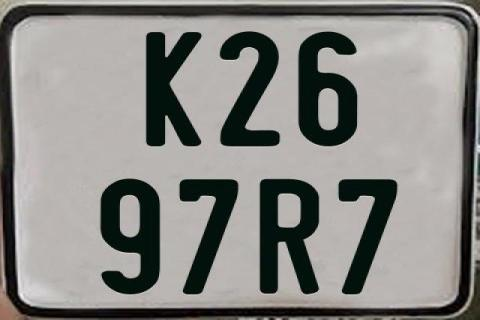0: (179, 177, 244, 293), (100, 176, 160, 297), (297, 30, 359, 146), (335, 178, 397, 294), (218, 30, 278, 146)
K: (145, 29, 206, 145)
R: (259, 180, 322, 300)
